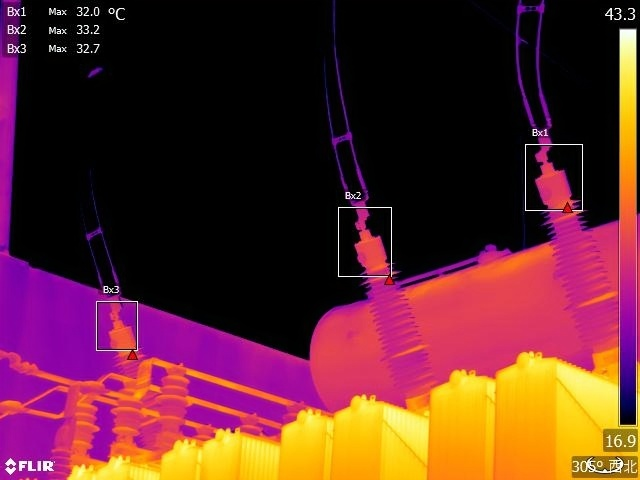oil conservator: (307, 217, 621, 413)
post insulator: (156, 362, 194, 434), (65, 399, 100, 459), (112, 388, 145, 442)
transformer: (76, 361, 618, 480)
tube: (536, 155, 619, 365), (349, 222, 435, 403), (114, 315, 160, 443)
